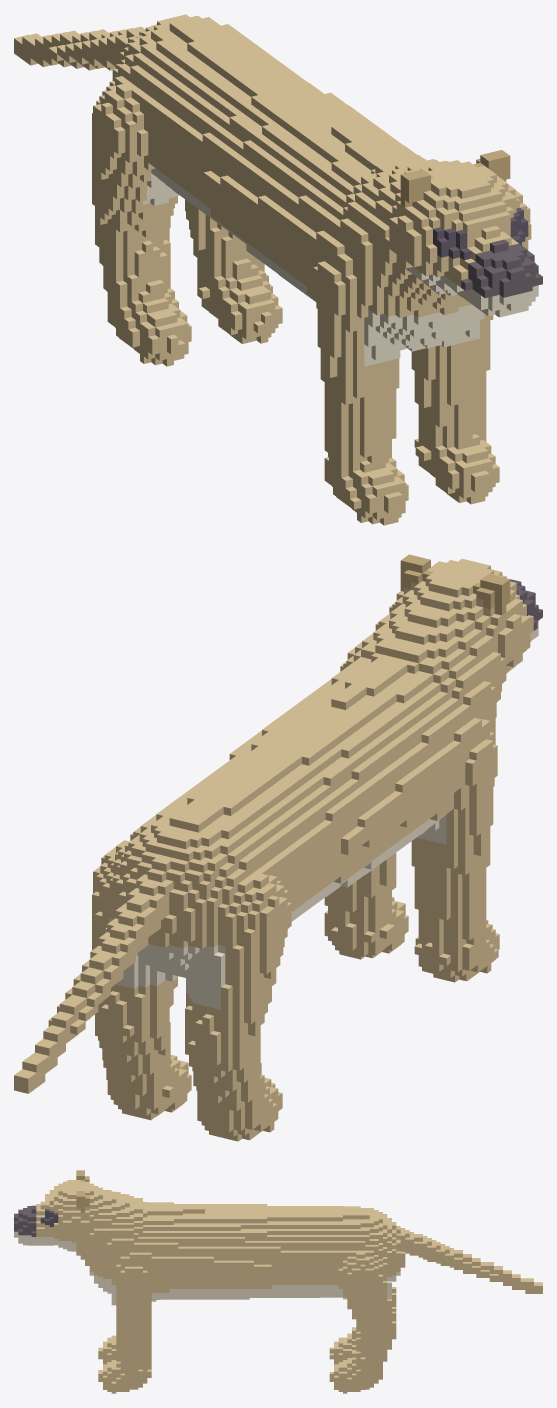
File: big_cat.glb
3 views of the same model, one above another, from view 1: azimuth 30°, elevation 25°; view 2: azimuth 150°, elevation 25°; view 3: azimuth 270°, elevation 25° (orthographic). The views are drawn at different scales.
Visible parts, largest first — view 1: item; view 2: item; view 3: item.
Boxes of the visible parts, bbox=[...] form: item: bbox=[14, 14, 542, 525]; item: bbox=[14, 554, 542, 1141]; item: bbox=[14, 1170, 542, 1393].
Bounding box in the file's own units: 24 × 48 × 119.
